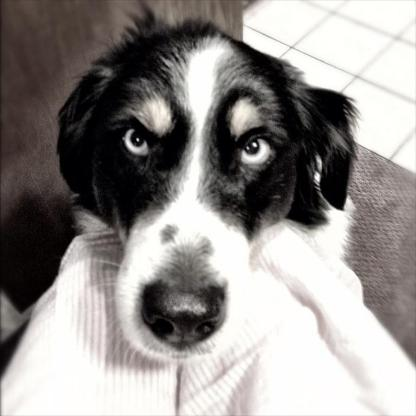Dog: (52, 0, 362, 358)
